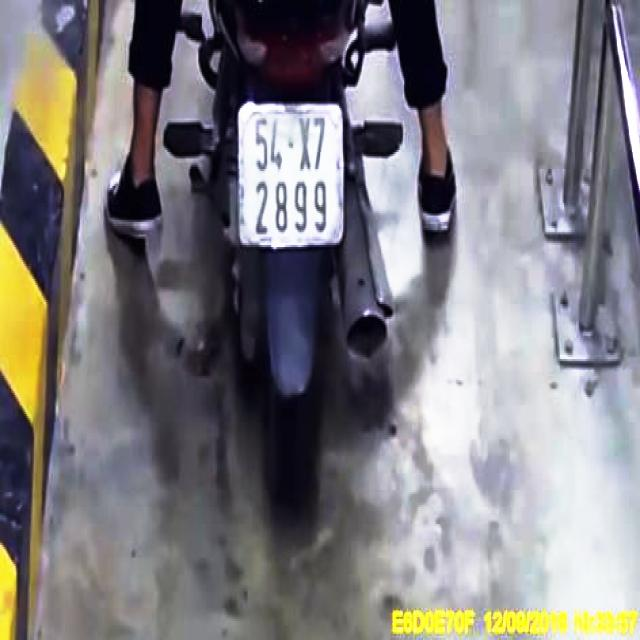license_plate: (240, 102, 346, 242)
